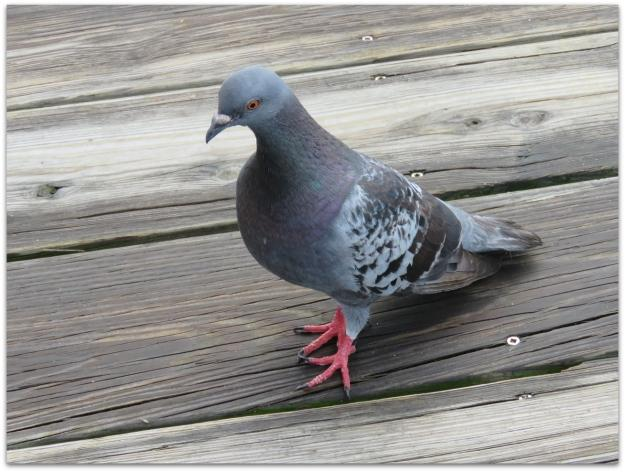Flying Rat: (201, 67, 555, 397)
